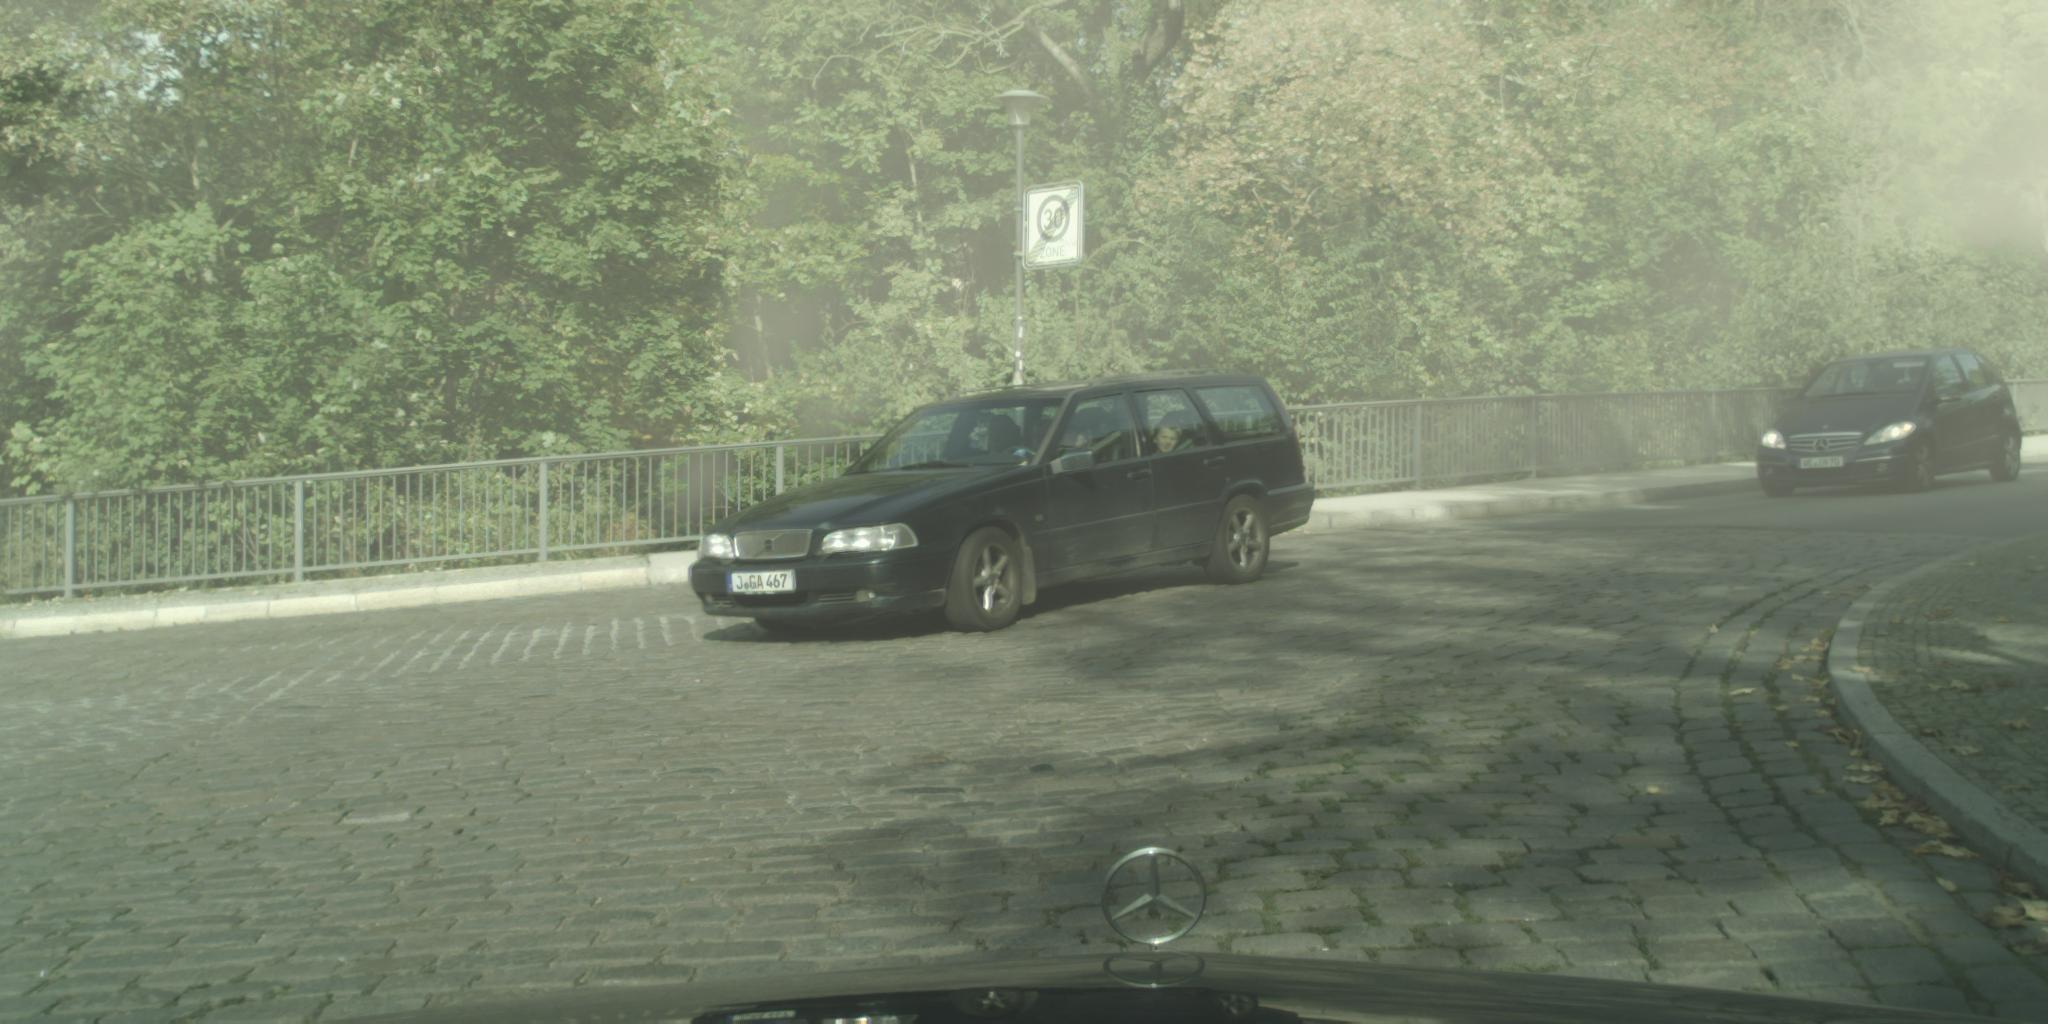car: (691, 370, 1315, 637), (1755, 347, 2024, 499)
